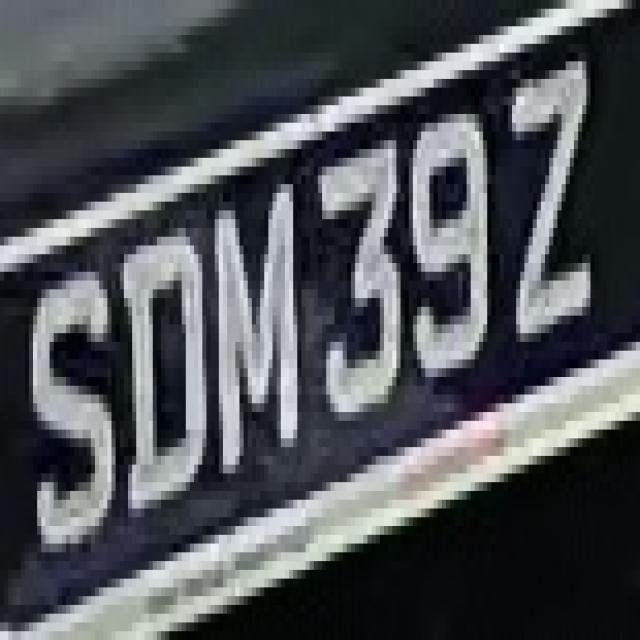3: (301, 123, 413, 421)
9: (396, 70, 496, 412)
D: (115, 237, 218, 552)
M: (206, 184, 298, 474)
S: (25, 263, 111, 552)
Z: (504, 44, 607, 386)
